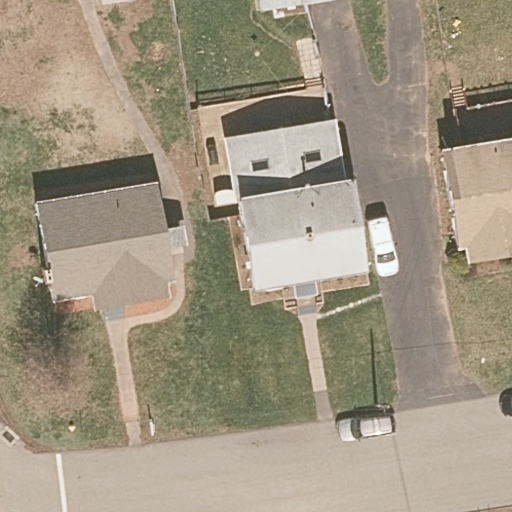DT: (352, 379, 398, 424)
